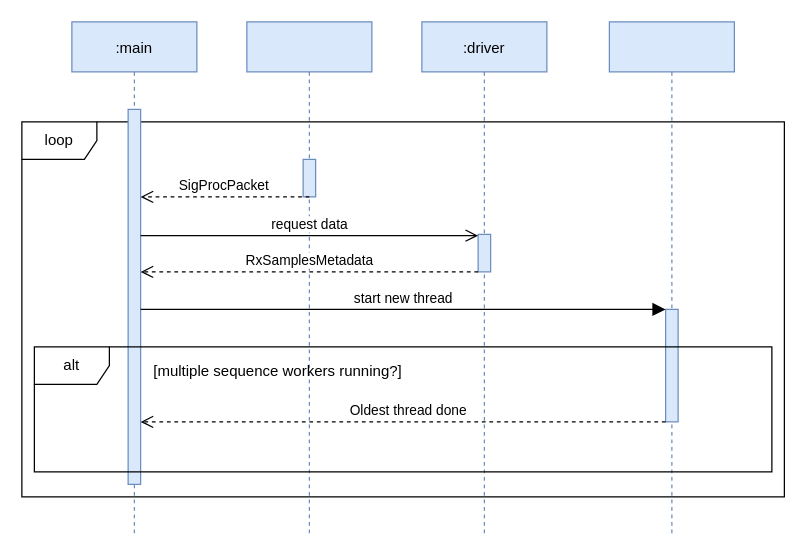
This 806x556 diagram has some shape labels left out. Here are the shapes that lost their labels. From the top down, the box of each, then its label:
(246, 21, 372, 534): :radar_control
(608, 21, 734, 534): :sequence_worker
